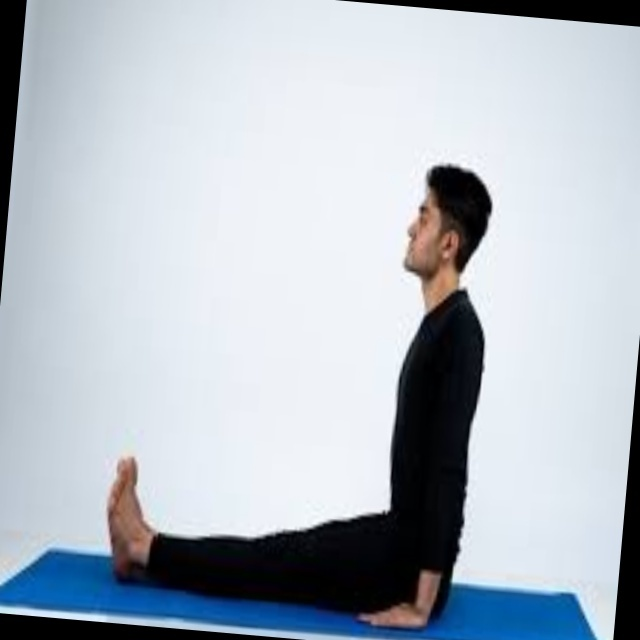Staff_Pose: (106, 166, 491, 630)
